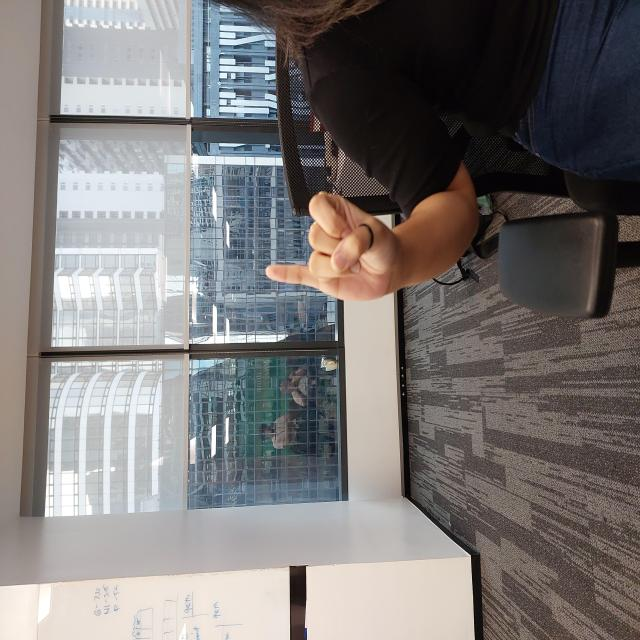I: (336, 264, 449, 406)
